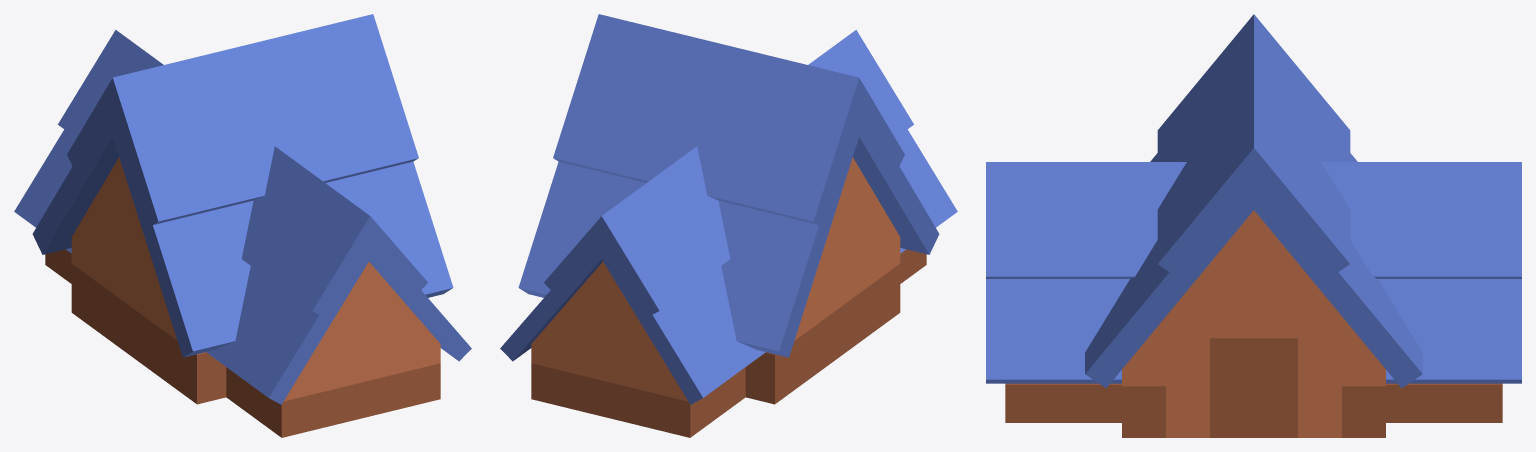
The model's file is Unit House Large.glb.
The picture shows the model from 3 angles, left to right: view 1: azimuth 30°, elevation 25°; view 2: azimuth 150°, elevation 25°; view 3: azimuth 270°, elevation 25°; orthographic projection. The views are drawn at different scales.
Parts seen in each view (by area): view 1: unit_houseLarge; view 2: unit_houseLarge; view 3: unit_houseLarge.
Boxes of the visible parts, box(x1,y1,x2,y2) form: unit_houseLarge: box(14, 14, 471, 437); unit_houseLarge: box(500, 14, 957, 437); unit_houseLarge: box(986, 14, 1521, 437).
Bounding box in the file's own units: 0.36 × 0.3781 × 0.6094.
